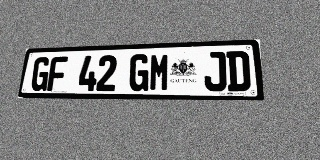2: (96, 55, 117, 91)
4: (77, 55, 99, 91)
D: (226, 51, 251, 91)
F: (47, 56, 68, 91)
G: (128, 54, 150, 91), (30, 57, 51, 91)
J: (204, 51, 227, 91)
M: (149, 53, 170, 91)
